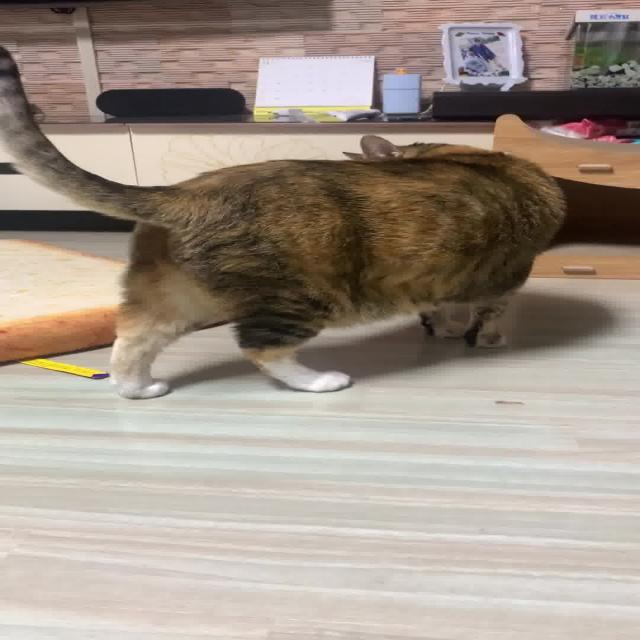cat: (0, 39, 578, 407)
